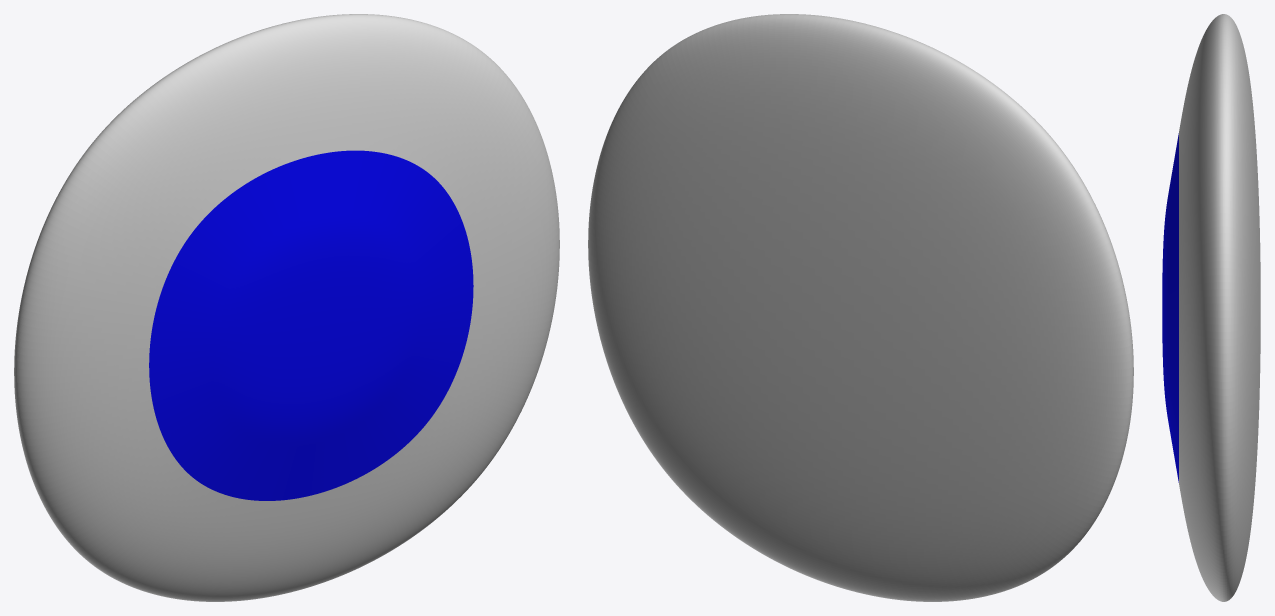
The model's file is ALVO AZUL.fbx.
3 views of the same model, side by side, from view 1: azimuth 30°, elevation 25°; view 2: azimuth 150°, elevation 25°; view 3: azimuth 270°, elevation 25° (orthographic). The views are drawn at different scales.
Visible parts, largest first — view 1: Cube; view 2: Cube; view 3: Cube.
Part boxes in pixels (left/top/right/bottom): Cube: left=14, top=14, right=559, bottom=601; Cube: left=588, top=14, right=1133, bottom=601; Cube: left=1162, top=14, right=1260, bottom=601.
Bounding box in the file's own units: 177 × 177 × 30.12.
